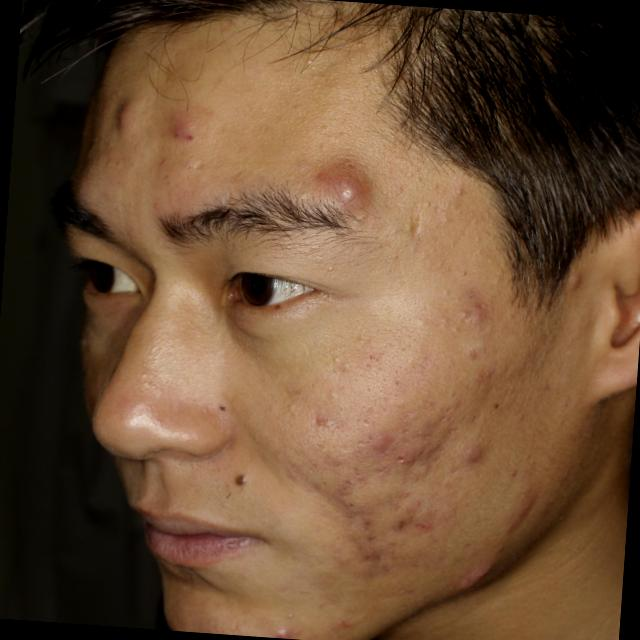blackhead: (493, 402, 498, 408), (396, 381, 398, 384), (362, 217, 364, 219), (468, 314, 469, 316)
nodule: (328, 174, 366, 211), (115, 95, 141, 134), (171, 114, 194, 141), (462, 444, 483, 463), (372, 434, 388, 452), (470, 308, 484, 324), (273, 628, 293, 638)
